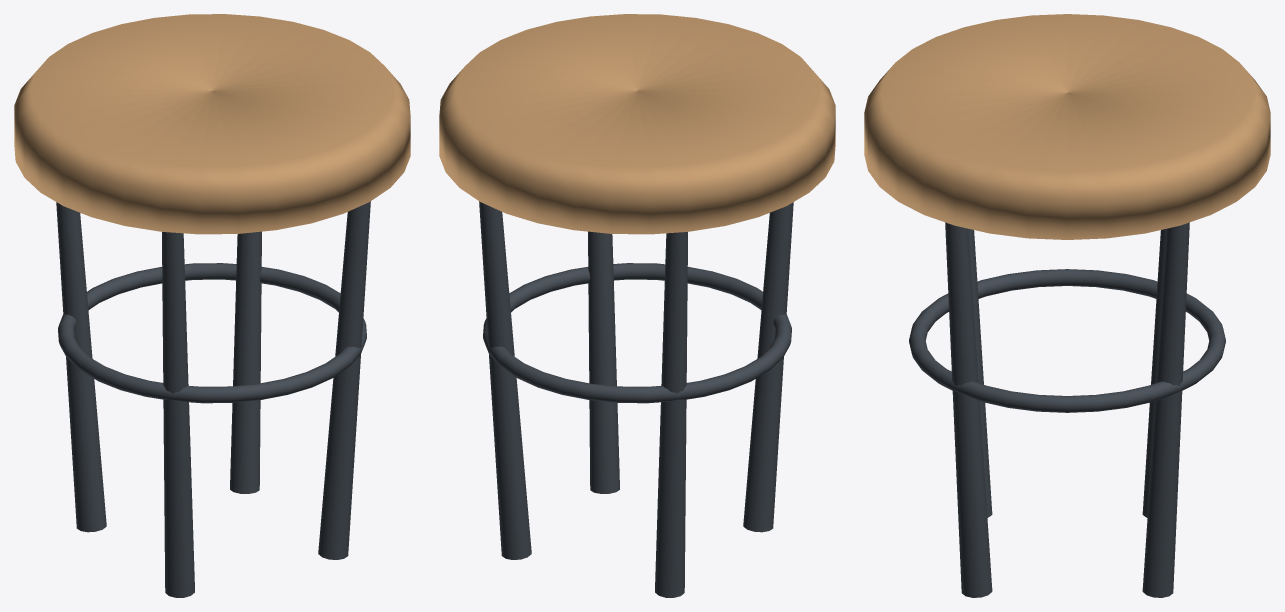
The model's file is stool.glb.
3 renders of one model, left to right at view 1: azimuth 30°, elevation 25°; view 2: azimuth 150°, elevation 25°; view 3: azimuth 270°, elevation 25°, orthographic. The views are drawn at different scales.
Visible parts, largest first — view 1: material-1-top, material-0-leg; view 2: material-1-top, material-0-leg; view 3: material-1-top, material-0-leg.
Boxes of the visible parts, x1,y1,x2,y2 form: material-1-top: (14,14,410,234); material-0-leg: (56,201,370,597); material-1-top: (439,14,835,234); material-0-leg: (479,201,793,597); material-1-top: (864,14,1270,239); material-0-leg: (909,222,1225,597).
Bounding box in the file's own units: 0.36 × 0.45 × 0.36.
